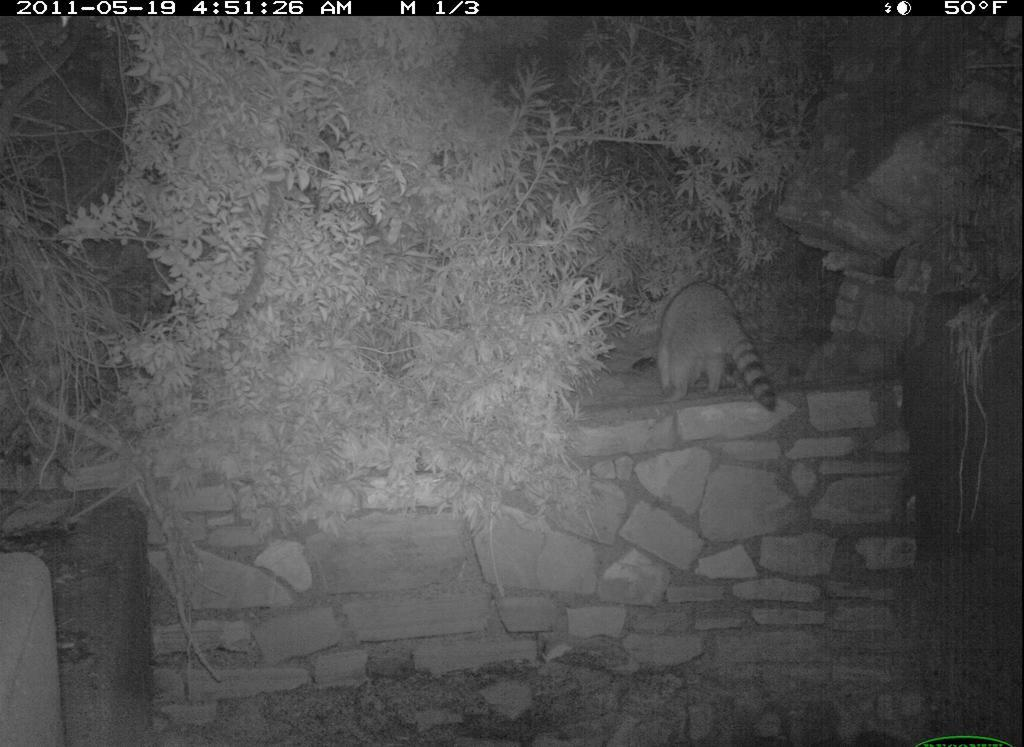raccoon: (639, 278, 789, 434)
